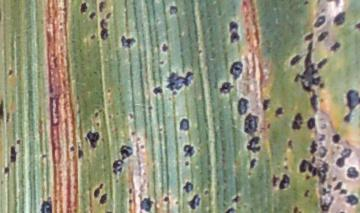tarspot: (292, 30, 329, 114), (298, 132, 336, 213), (165, 70, 195, 95), (341, 87, 360, 124), (334, 145, 353, 168), (242, 112, 260, 135), (228, 60, 245, 81), (244, 135, 262, 153), (85, 129, 100, 149), (290, 111, 304, 132), (98, 17, 110, 41), (119, 143, 134, 162), (217, 81, 236, 96), (186, 193, 202, 210), (331, 11, 348, 27), (311, 14, 328, 30), (138, 197, 154, 213), (39, 195, 53, 213), (111, 158, 125, 176), (120, 34, 136, 49), (178, 116, 191, 133), (237, 96, 248, 116), (345, 193, 360, 207), (278, 174, 291, 190), (288, 53, 304, 66), (182, 144, 196, 158), (316, 30, 330, 43), (181, 181, 196, 193), (92, 182, 103, 198), (346, 165, 358, 179), (332, 180, 346, 192), (229, 31, 241, 44), (228, 20, 240, 33), (328, 41, 341, 53), (270, 173, 280, 188), (261, 97, 271, 112), (9, 145, 17, 163), (306, 117, 316, 131), (168, 4, 179, 16), (151, 85, 164, 95), (324, 1, 345, 7), (86, 10, 97, 21), (99, 193, 109, 205), (249, 156, 257, 171), (79, 1, 88, 14), (291, 204, 304, 213), (331, 133, 341, 144), (97, 1, 106, 12), (286, 137, 293, 151), (1, 98, 5, 121), (223, 206, 236, 213), (274, 106, 283, 116), (338, 187, 348, 196), (159, 41, 167, 52), (231, 195, 241, 203), (77, 148, 84, 159), (183, 159, 191, 168), (5, 111, 10, 124), (6, 68, 14, 76), (162, 195, 170, 203), (157, 59, 165, 67), (134, 136, 142, 144), (3, 165, 10, 174), (15, 137, 22, 146), (69, 144, 76, 153), (353, 21, 360, 30), (127, 111, 134, 120), (89, 33, 96, 41), (105, 12, 112, 20), (94, 121, 102, 128), (282, 164, 289, 172), (196, 48, 204, 55), (127, 186, 133, 195), (303, 189, 309, 198), (130, 130, 137, 137), (147, 104, 154, 111), (266, 122, 272, 130), (331, 176, 339, 182), (139, 144, 146, 150), (106, 87, 112, 94), (127, 198, 133, 205), (94, 111, 99, 119), (304, 1, 310, 6), (316, 1, 321, 6)
